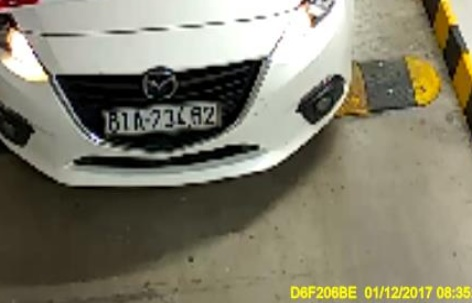plate: (96, 94, 223, 136)
